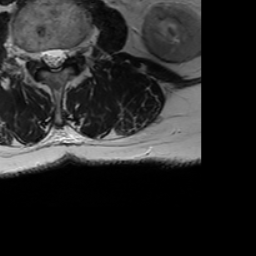CCS_normal: (51, 41, 60, 76)
LFS_stenosis: (68, 39, 78, 64)
LLS_normal: (60, 41, 68, 70)
RFS_stenosis: (31, 41, 41, 73)
RLS_normal: (42, 43, 51, 70)
